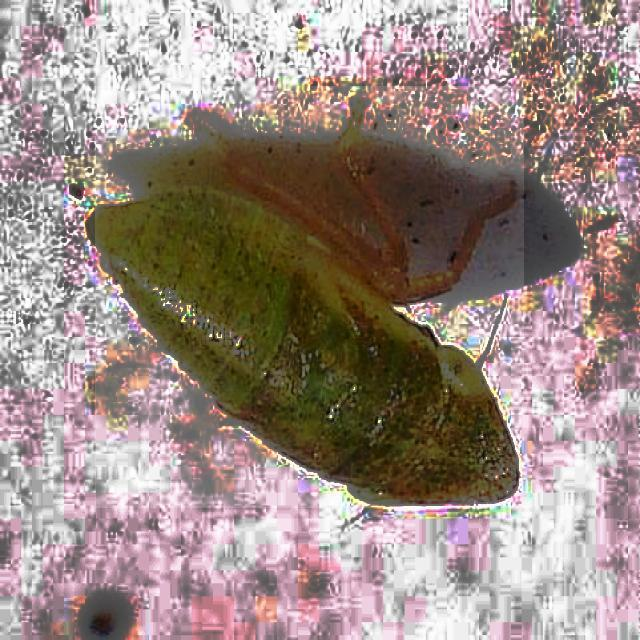green-leafhopper: (95, 86, 524, 508)
